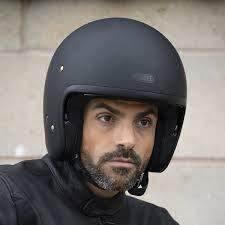helmet: (43, 17, 188, 191)
